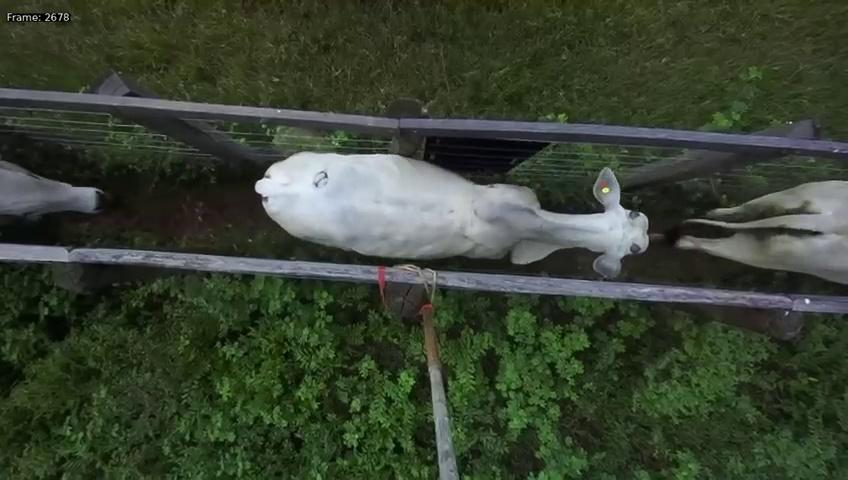cattle: (252, 130, 652, 279)
